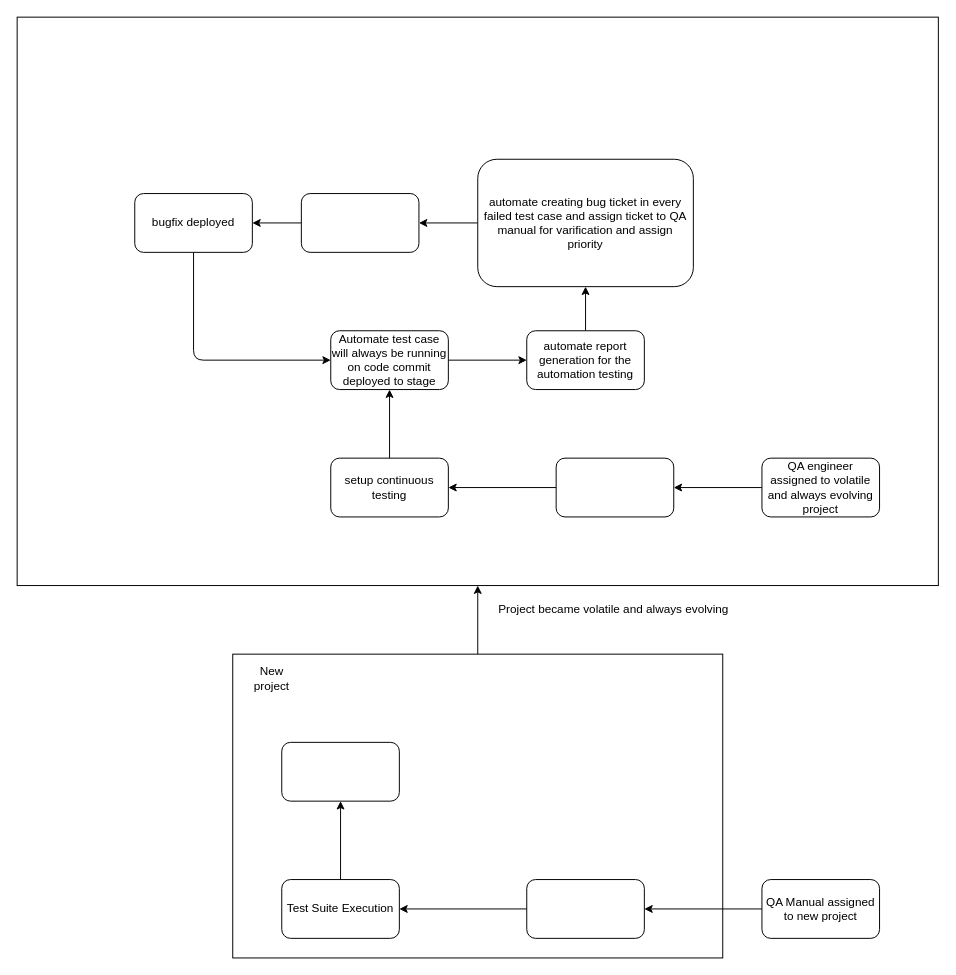
The diagram is 956 pixels wide and 975 high, and some of its shapes have lost their labels. Here are the shapes that lost their labels. From the top down, the centre of each, then its label:
At point 359,222: "assign to engineer for fix".
At point 614,487: "Create testing automation use test case created by manual QA".
At point 340,771: "Project greenlit & Ready for production".
At point 585,908: "Create test case".
